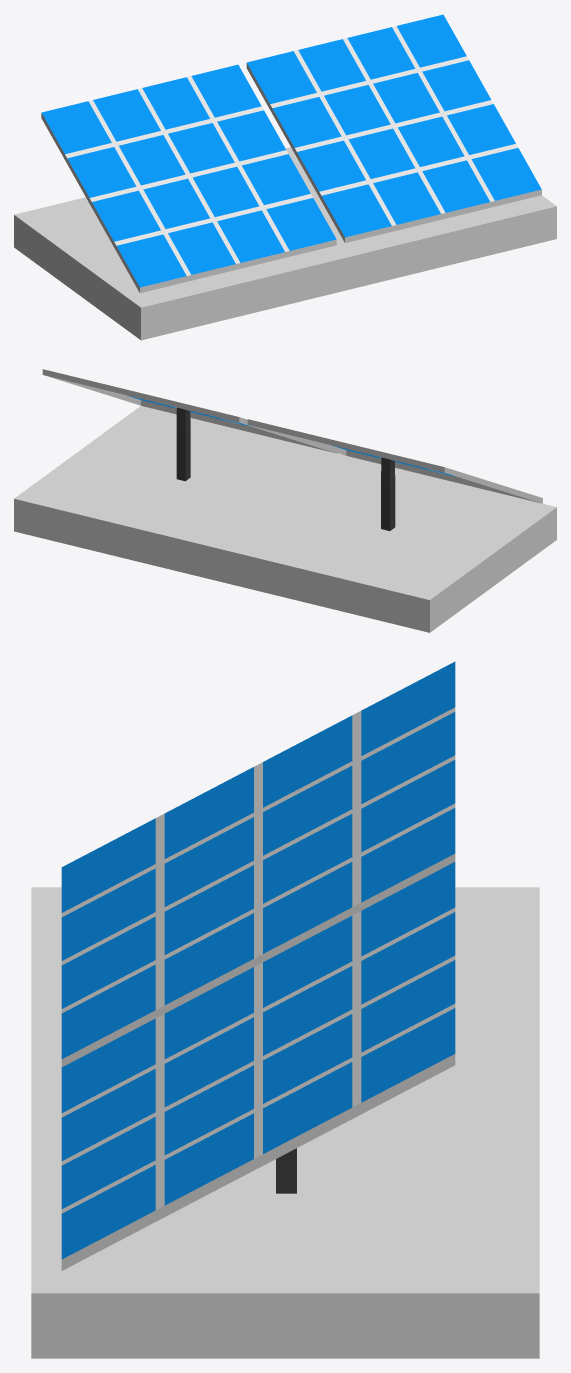
The model's file is solarPanel.fbx.
3 views of the same model, one above another, from view 1: azimuth 30°, elevation 25°; view 2: azimuth 150°, elevation 25°; view 3: azimuth 270°, elevation 25° (orthographic). The views are drawn at different scales.
Parts seen in each view (by area): view 1: solar panel; view 2: solar panel; view 3: solar panel.
Boxes of the visible parts, bbox=[...] form: solar panel: bbox=[14, 14, 556, 340]; solar panel: bbox=[14, 369, 556, 632]; solar panel: bbox=[31, 661, 539, 1358].
Bounding box in the file's own units: 423 × 144 × 224.
